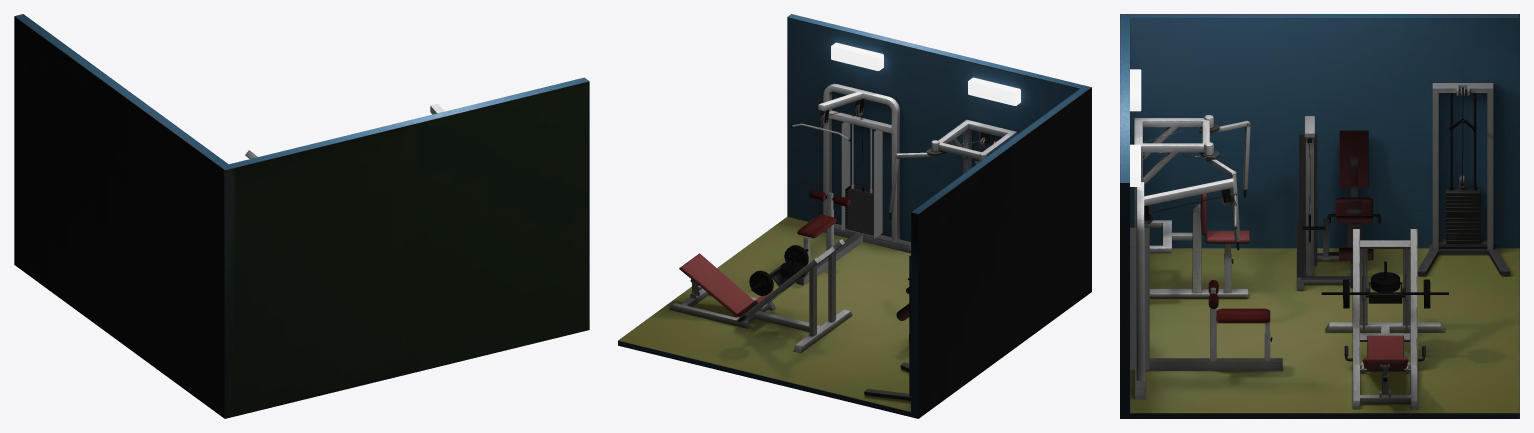
File: gym-machines.glb
3 views of the same model, side by side, from view 1: azimuth 30°, elevation 25°; view 2: azimuth 150°, elevation 25°; view 3: azimuth 270°, elevation 25° (orthographic). The views are drawn at different scales.
Visible parts, largest first — view 1: gym-machines; view 2: gym-machines, pulldown, leg- press, peckdeck, light.001, cabels; view 3: gym-machines, leg- press, pulldown, peckdeck, leg-extension, cabels, light.001.
Part boxes in pixels (x1,y1,x2,y2): gym-machines: (14, 14, 589, 418); gym-machines: (618, 14, 1091, 418); pulldown: (790, 83, 910, 285); leg- press: (669, 239, 852, 353); peckdeck: (889, 119, 1016, 219); light.001: (831, 42, 1020, 105); cabels: (864, 254, 910, 401); gym-machines: (1120, 14, 1519, 418); leg- press: (1321, 229, 1448, 409); pulldown: (1130, 178, 1282, 399); peckdeck: (1132, 115, 1250, 297); leg-extension: (1297, 116, 1380, 290); cabels: (1417, 83, 1509, 275); light.001: (1130, 69, 1141, 186).
Bounding box in the file's own units: 3.07 × 2 × 3.07.
36 materials, 35 textured.
